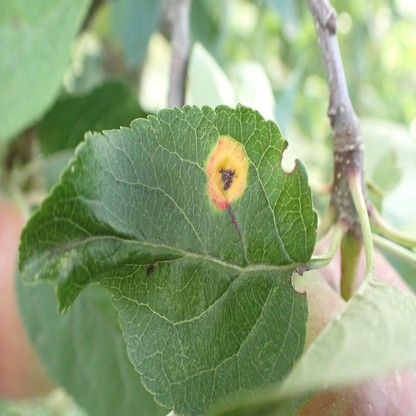rust: (205, 134, 249, 206)
